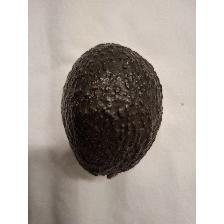Avocado: (56, 39, 164, 183)
